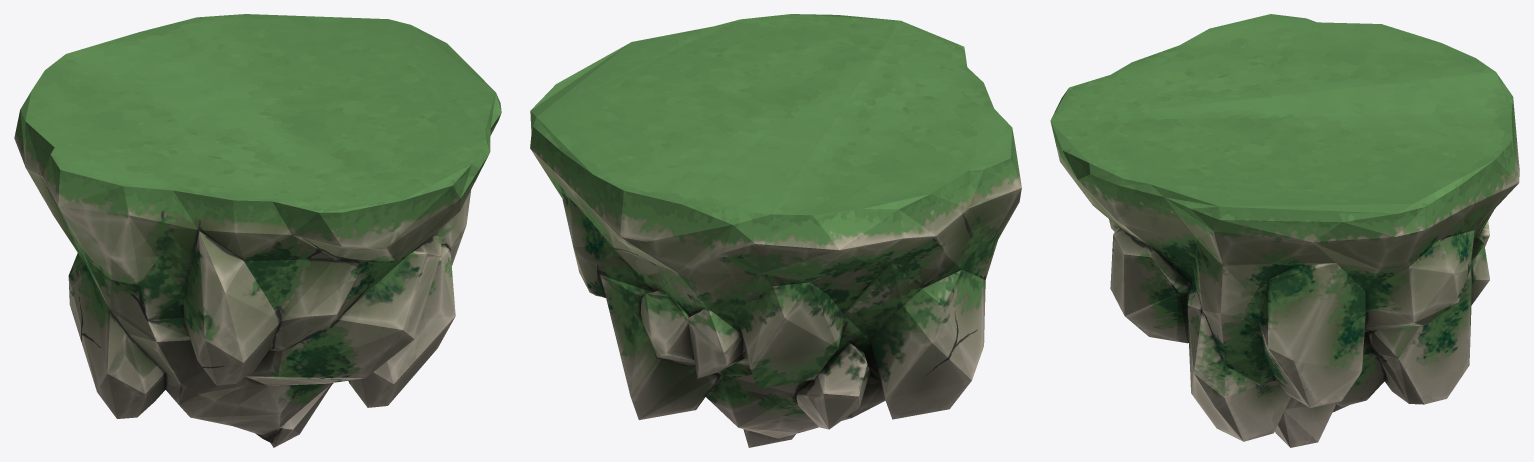
Rendered from floating_island.glb.
3 renders of one model, left to right at view 1: azimuth 30°, elevation 25°; view 2: azimuth 150°, elevation 25°; view 3: azimuth 270°, elevation 25°, orthographic. The views are drawn at different scales.
Parts seen in each view (by area): view 1: island lowpoly ultra.007; view 2: island lowpoly ultra.007; view 3: island lowpoly ultra.007.
Part boxes in pixels (x1,y1,x2,y2): island lowpoly ultra.007: (14,14,501,447); island lowpoly ultra.007: (530,14,1021,447); island lowpoly ultra.007: (1050,14,1519,447).
Size of the model in its own units: 11.51 by 8.5 by 11.32.
1 material, 1 textured.
